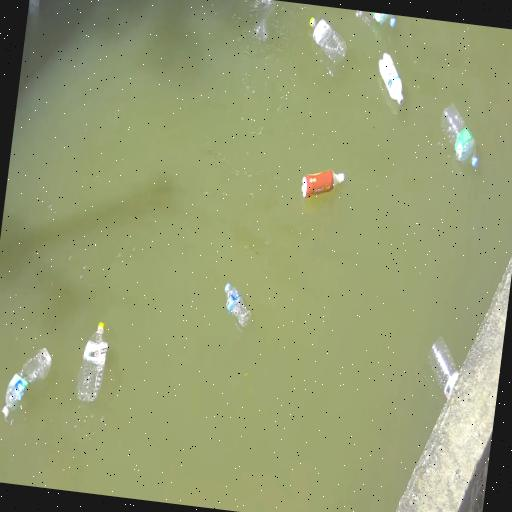plastic: (2, 349, 51, 418), (76, 322, 108, 403), (441, 104, 478, 167), (429, 337, 458, 399), (310, 18, 346, 64), (379, 53, 403, 105), (225, 283, 251, 327), (302, 171, 344, 198), (372, 12, 396, 27)
